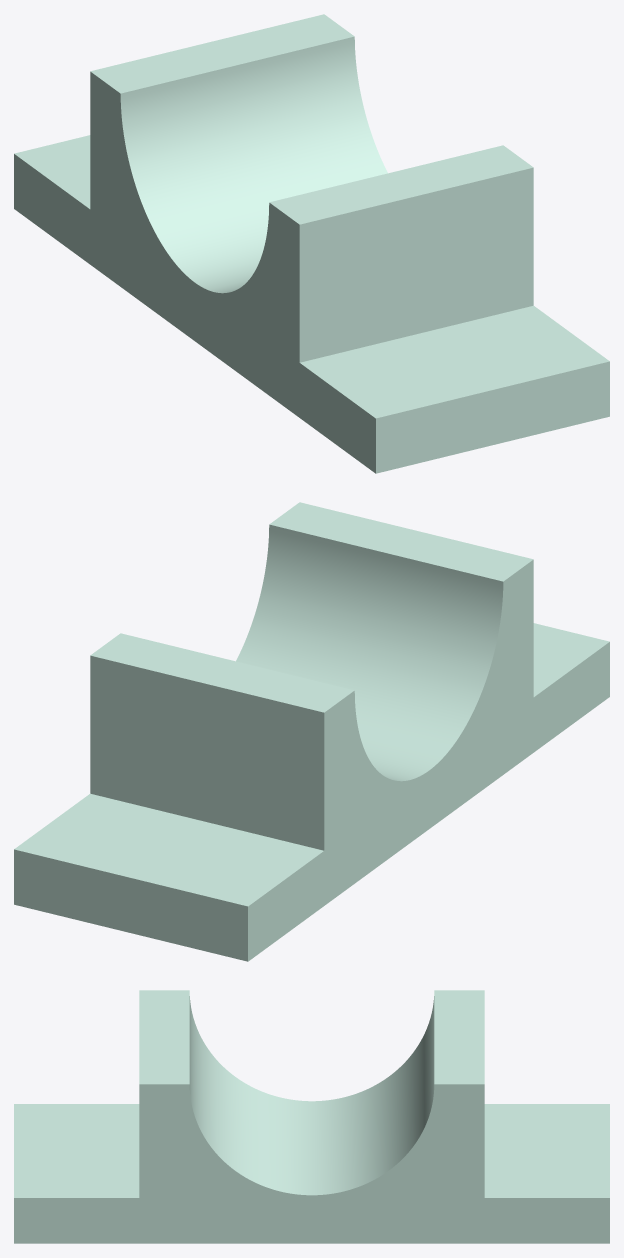
File: expected.gltf
3 renders of one model, top to bottom at view 1: azimuth 30°, elevation 25°; view 2: azimuth 150°, elevation 25°; view 3: azimuth 270°, elevation 25°, orthographic. The views are drawn at different scales.
Visible parts, largest first — view 1: Renderer Node; view 2: Renderer Node; view 3: Renderer Node.
Boxes of the visible parts, box(x1,y1,x2,y2) form: Renderer Node: box(14, 14, 609, 473); Renderer Node: box(14, 502, 609, 961); Renderer Node: box(14, 990, 609, 1243).
Bounding box in the file's own units: 0.5078 × 0.4007 × 1.36.
